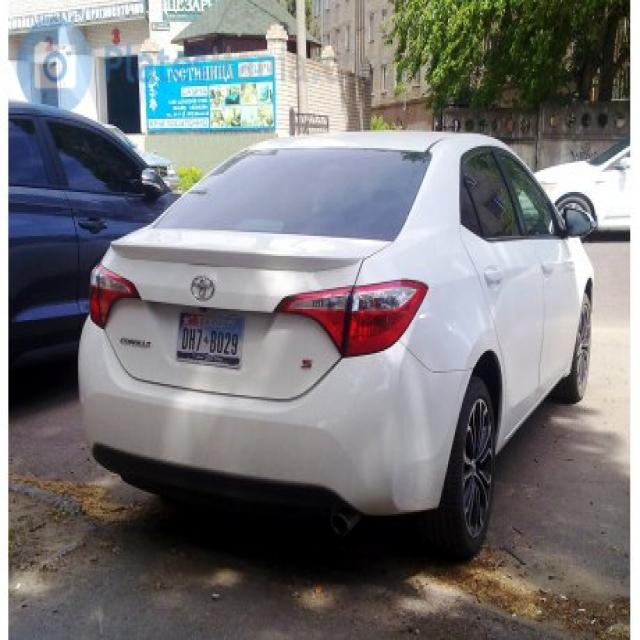Number-Plate: (176, 318, 243, 368)
